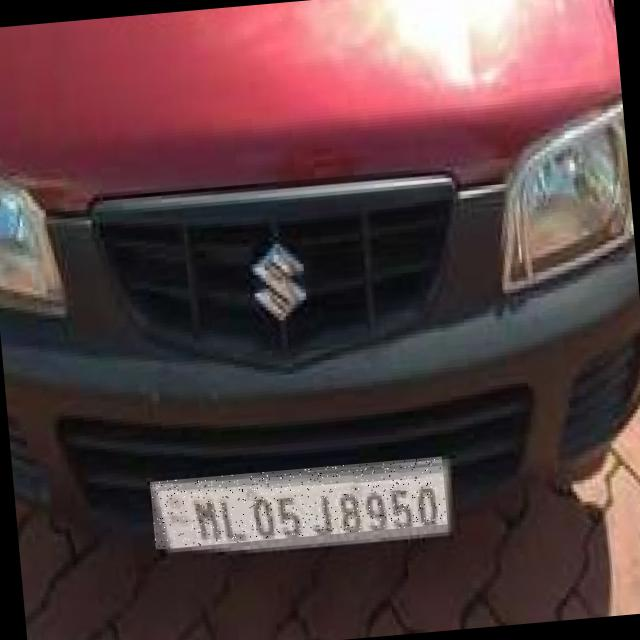Plate: (151, 457, 449, 550)
